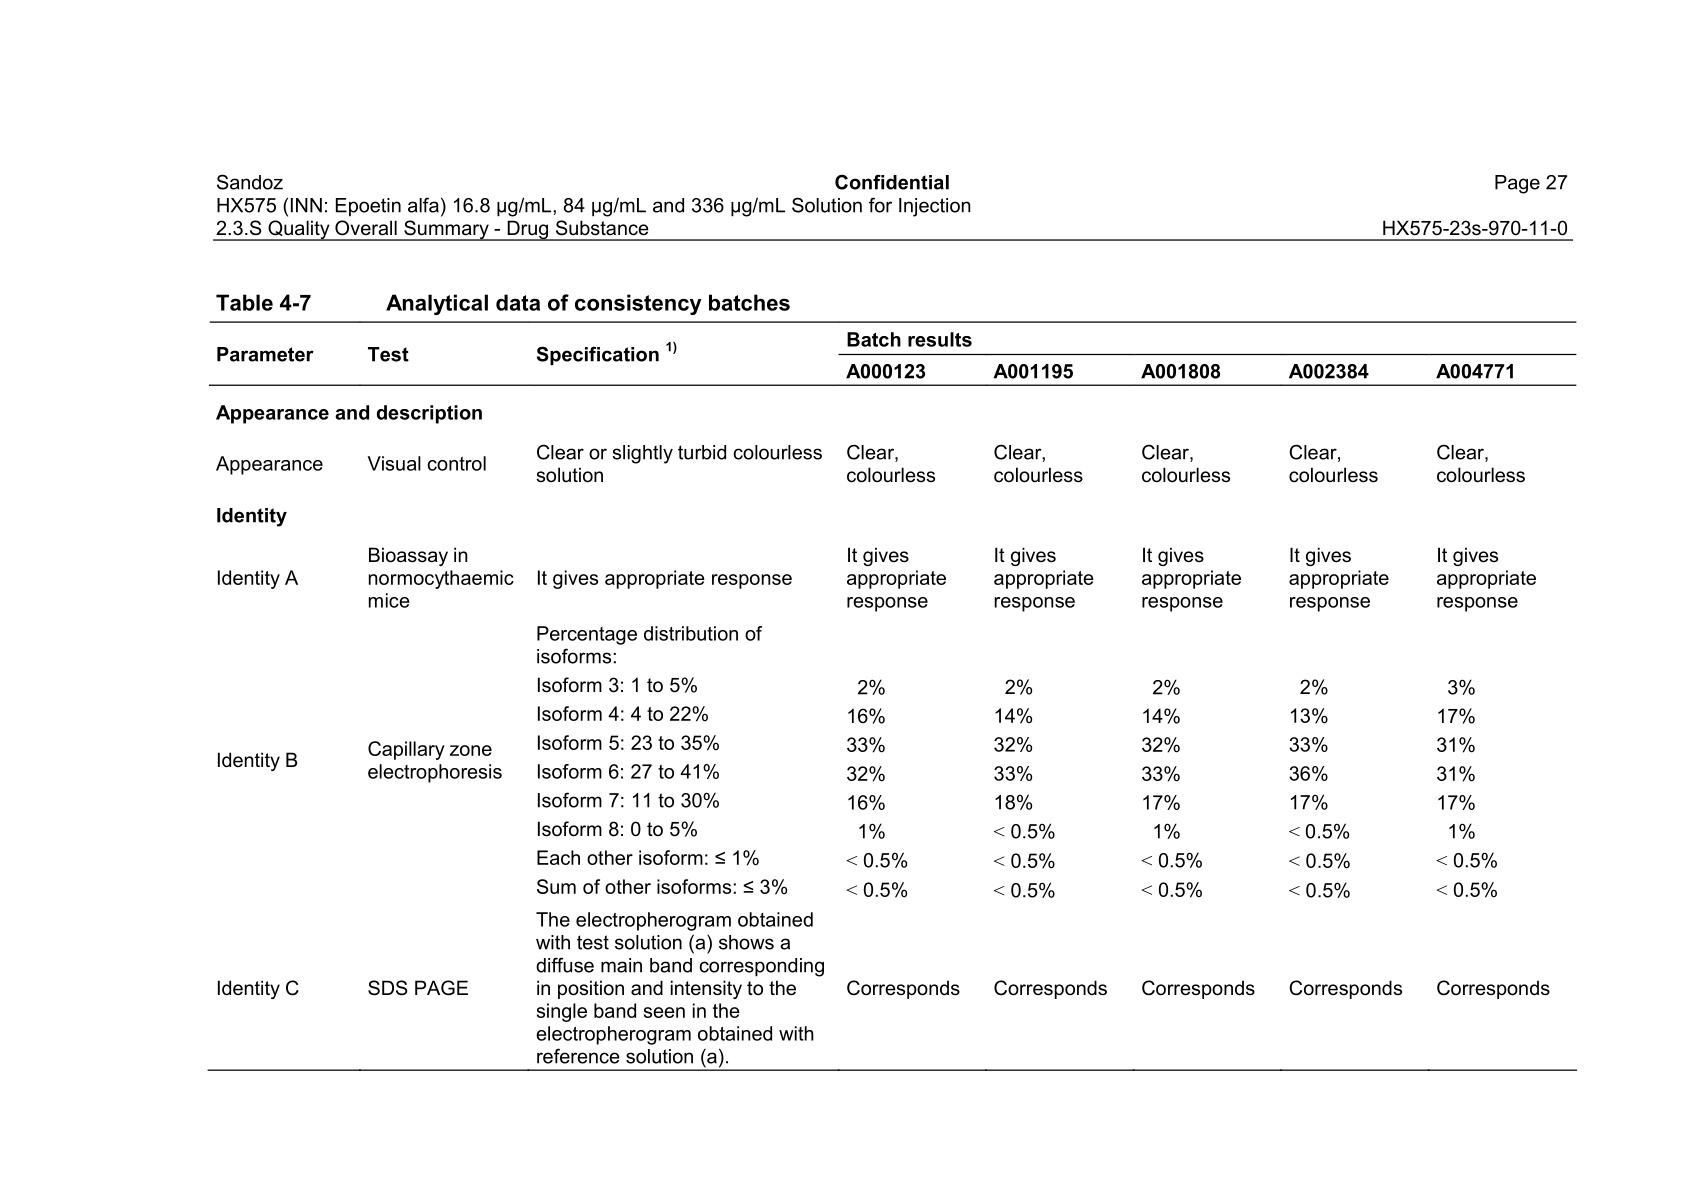partial_lined_merged_cells: (207, 318, 1576, 1071)
